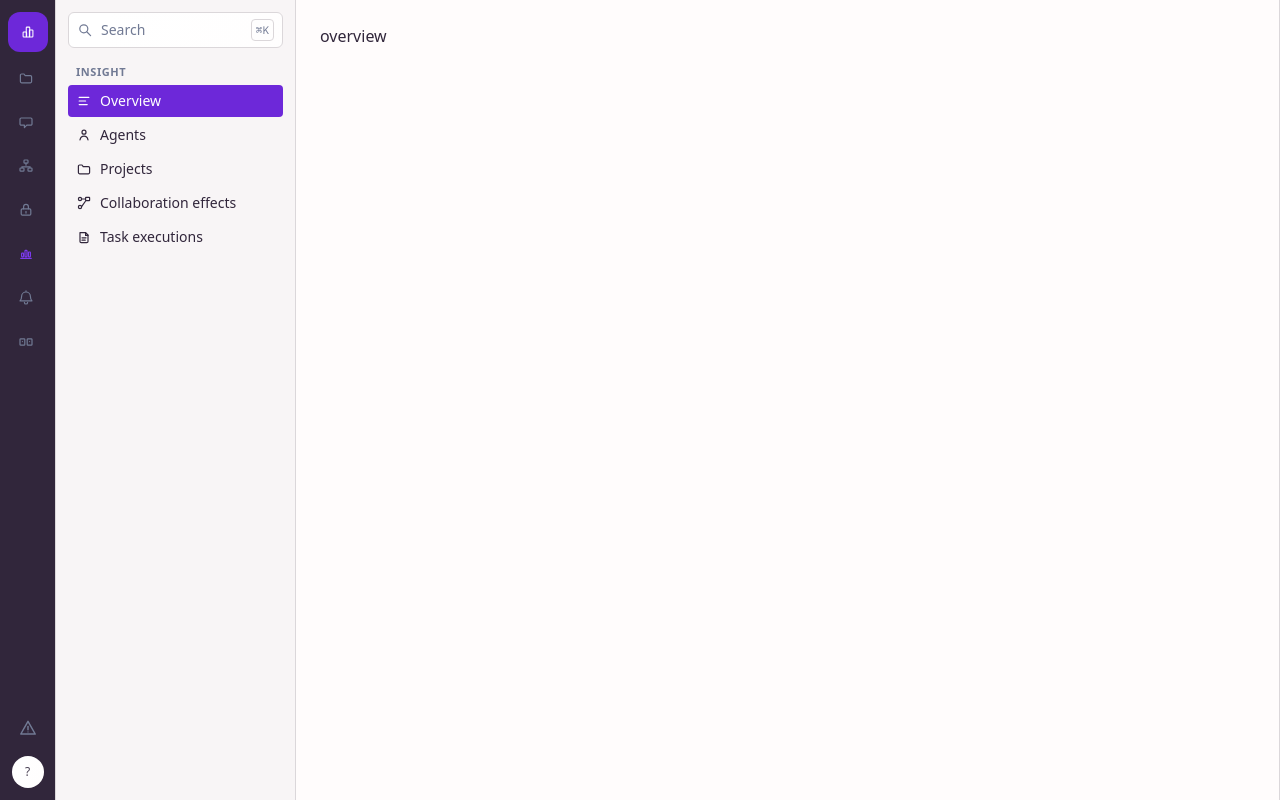
Test: AppLayout Insight secondary nav › desktop col2 includes all Insight entries and navigates without leaving the Insight rail module
This screenshot has width=1280, height=800.
Click the link "Projects" at (114, 168), box x1=76 y1=158 x2=152 y2=178
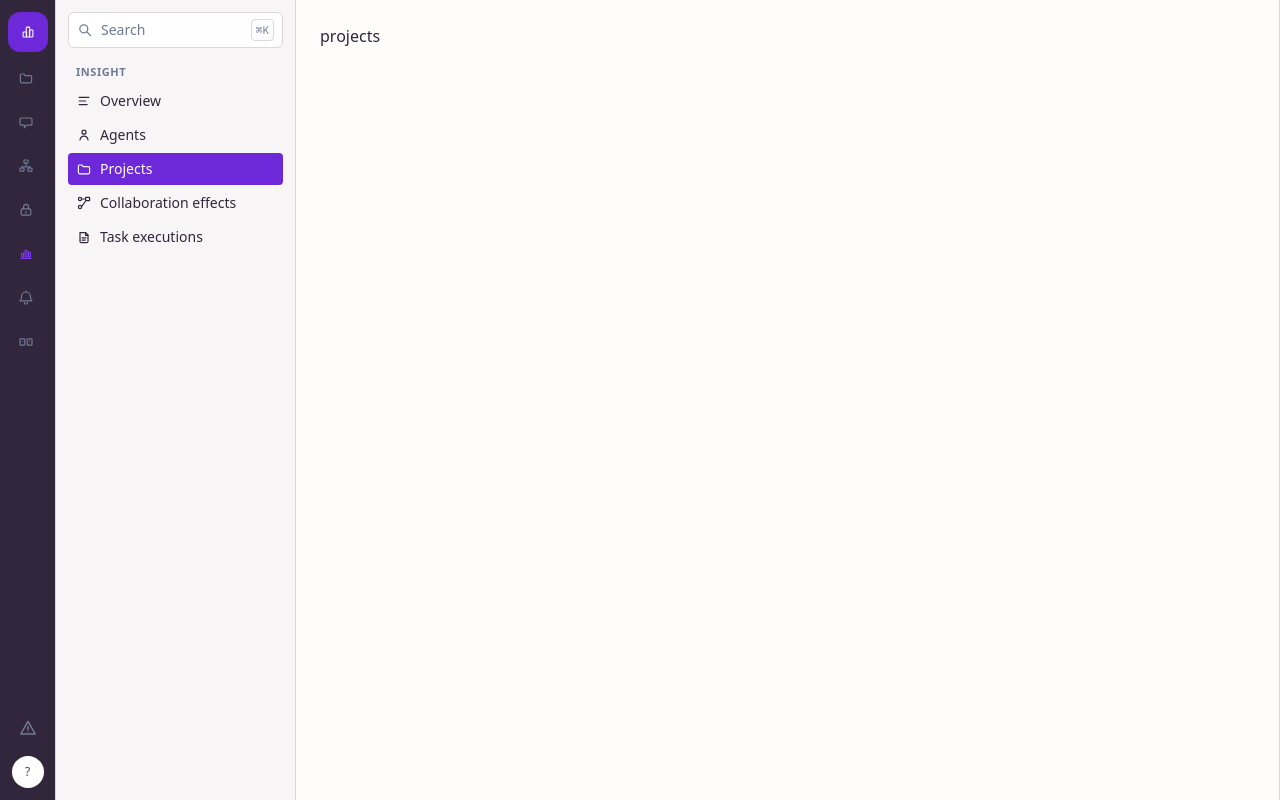
Result: the text "projects" is shown at x1=320 y1=25 x2=380 y2=47
Click the link "Collaboration effects" at (156, 202), box x1=76 y1=192 x2=236 y2=212
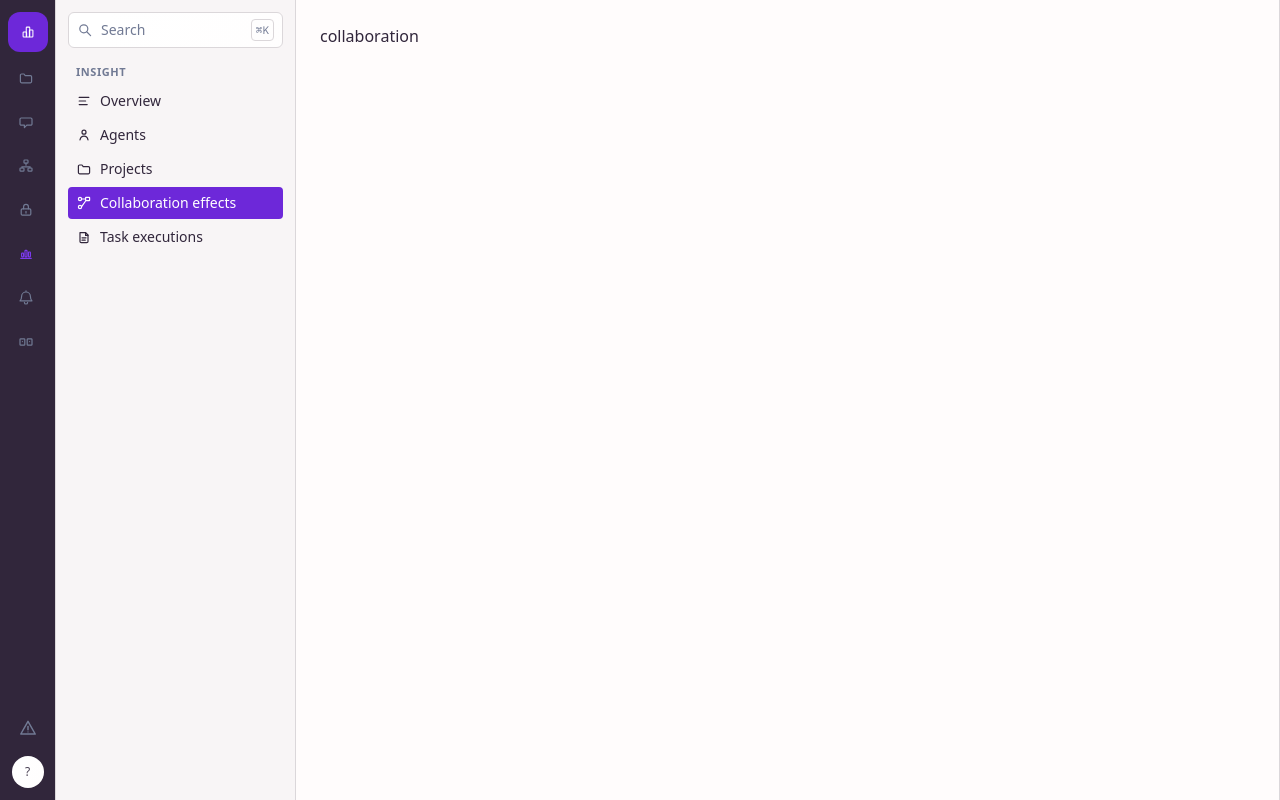
Result: the text "collaboration" is shown at x1=320 y1=25 x2=419 y2=47
